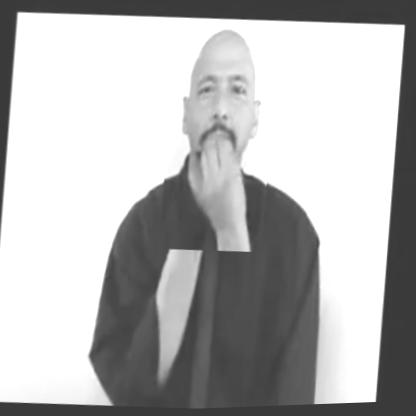Food: (159, 9, 280, 257)
